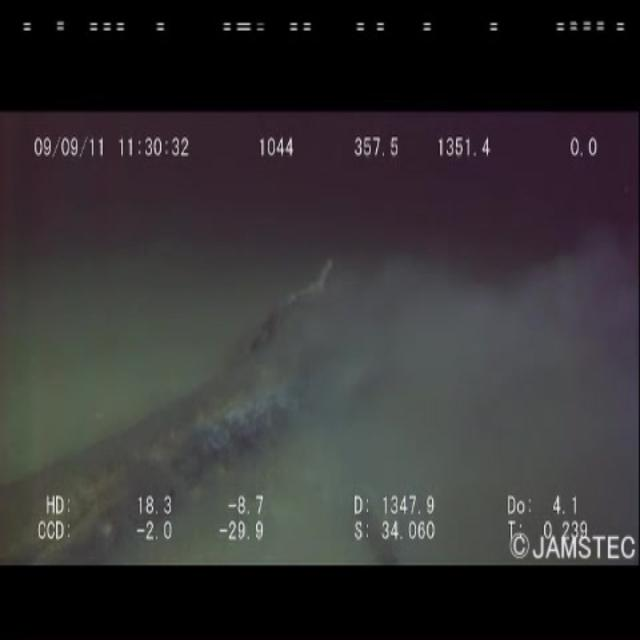Wood: (0, 249, 397, 562)
